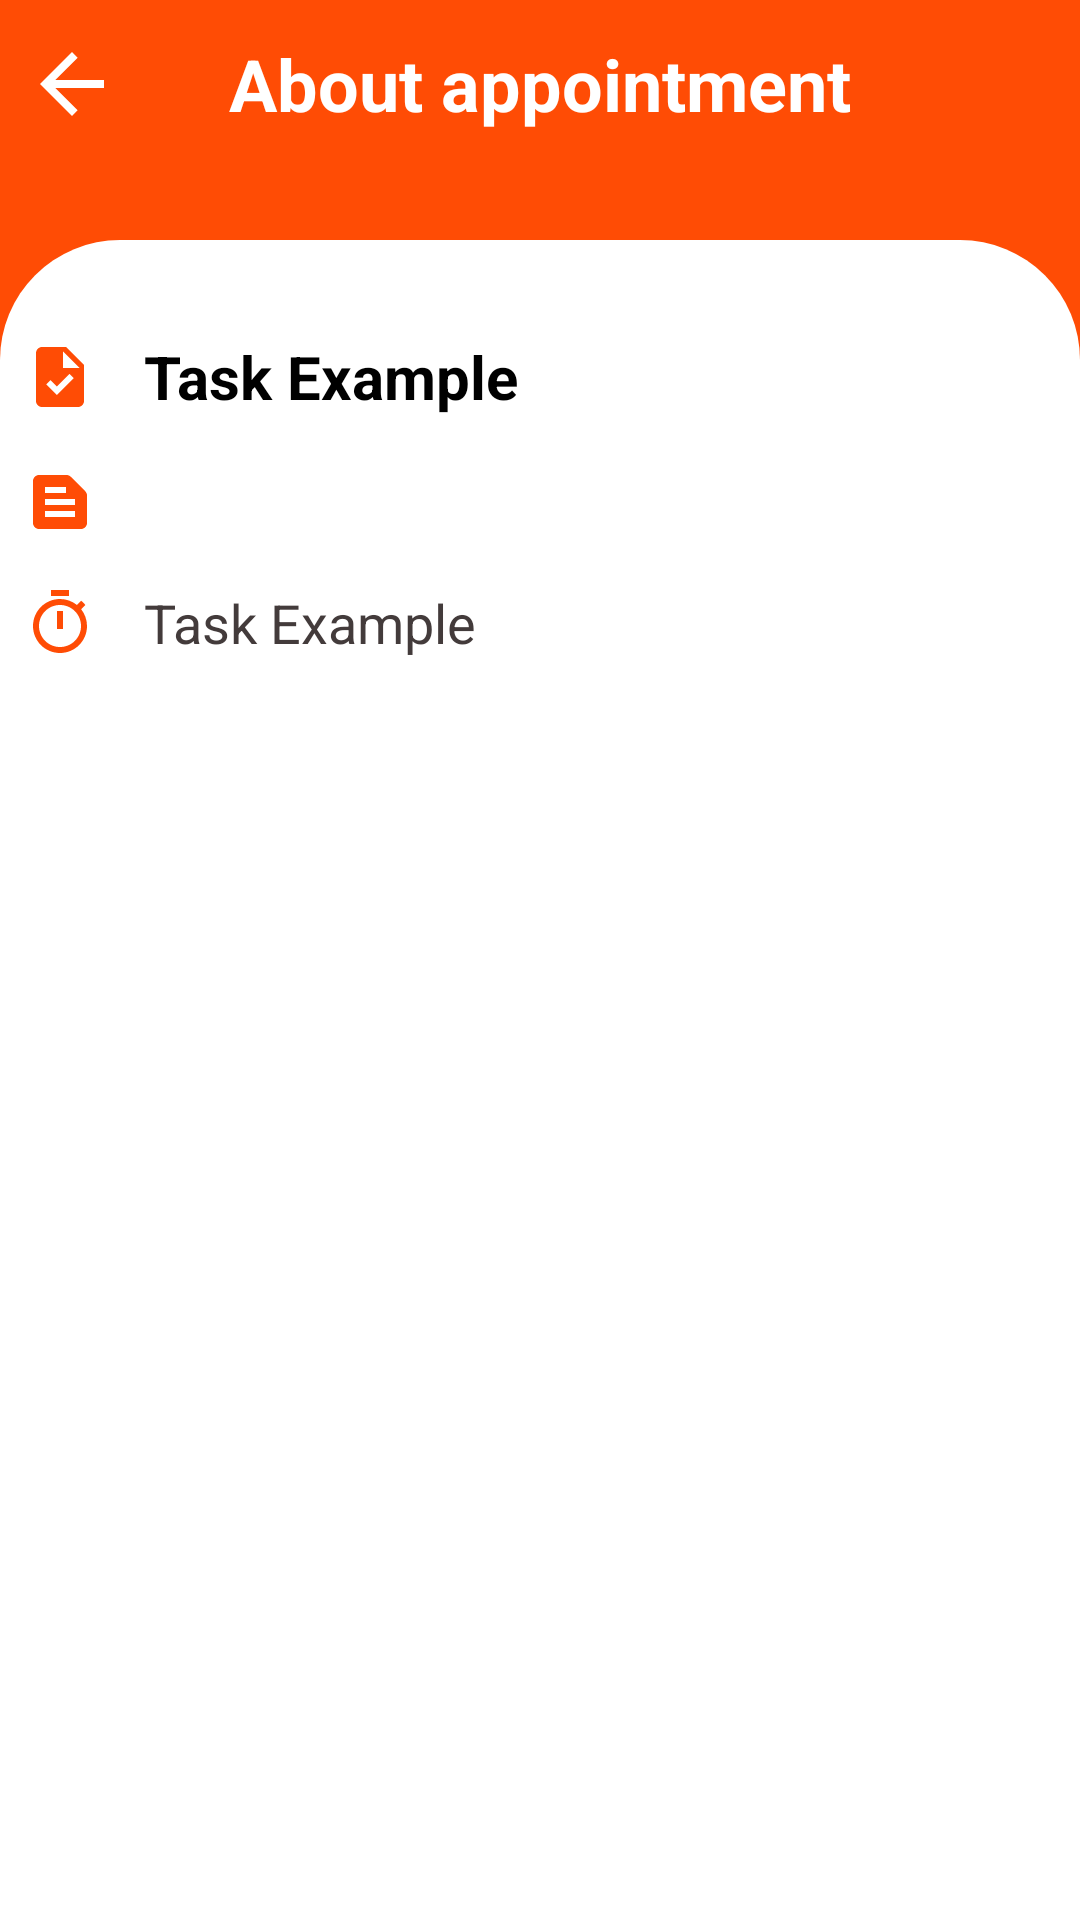

Icons on this 1080*1920 Android screen, each with its box as bbox=(x1, y1, x2, y2):
back: bbox=(40, 52, 104, 116)
timer: bbox=(33, 590, 87, 653)
